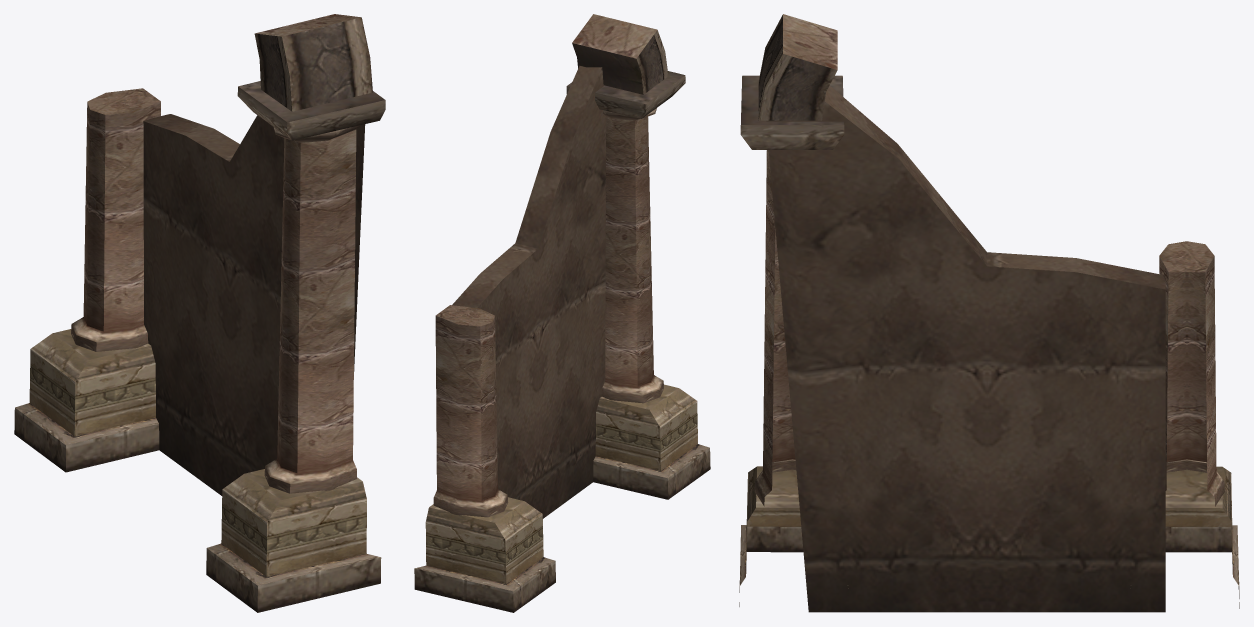
Rendered from blsd_4qiang_03.FBX.
The picture shows the model from 3 angles, left to right: view 1: azimuth 30°, elevation 25°; view 2: azimuth 150°, elevation 25°; view 3: azimuth 270°, elevation 25°; orthographic projection. The views are drawn at different scales.
Visible parts, largest first — view 1: blsd_4qiang_03; view 2: blsd_4qiang_03; view 3: blsd_4qiang_03.
Boxes of the visible parts, x1,y1,x2,y2 form: blsd_4qiang_03: (14, 14, 385, 612); blsd_4qiang_03: (414, 14, 710, 612); blsd_4qiang_03: (739, 14, 1239, 612).
Size of the model in its own units: 111 by 456 by 369.
